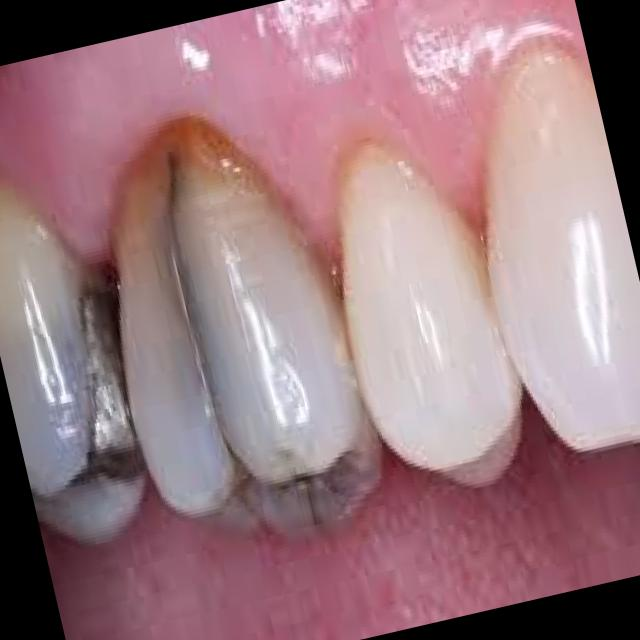Caries: (67, 279, 147, 484), (295, 474, 312, 480)
Tooth: (111, 124, 382, 541), (338, 135, 523, 492), (480, 38, 640, 450), (0, 185, 147, 547)
